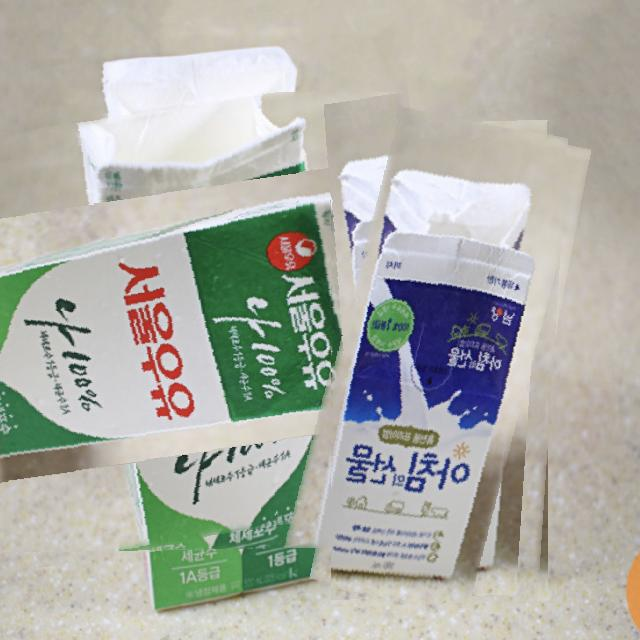biodegradable: (0, 92, 452, 553), (331, 119, 570, 608)
